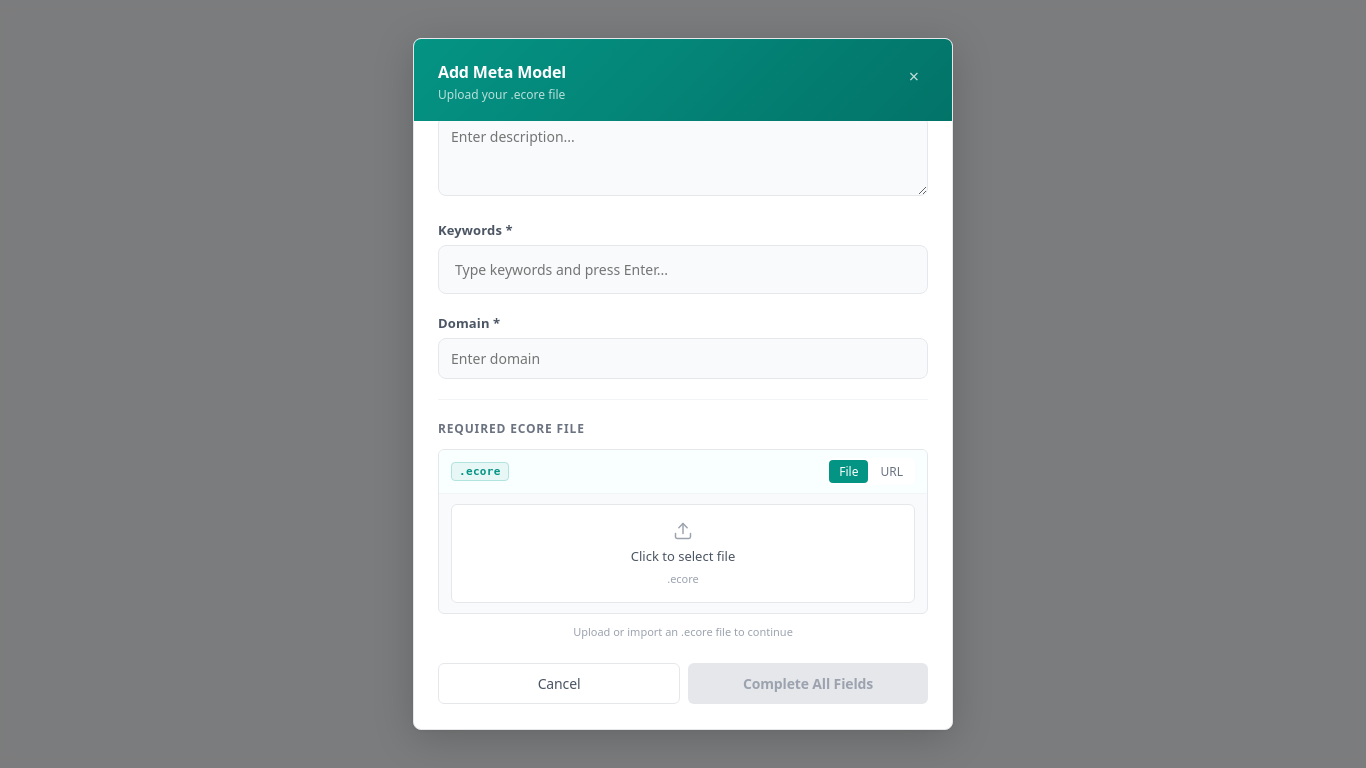
Test: CreateModelModal › URL import mode › shows ✓ Ready badge after a successful .ecore URL import
(page scrolled)
Click the button "URL" at (892, 472), box [870, 460, 913, 483]
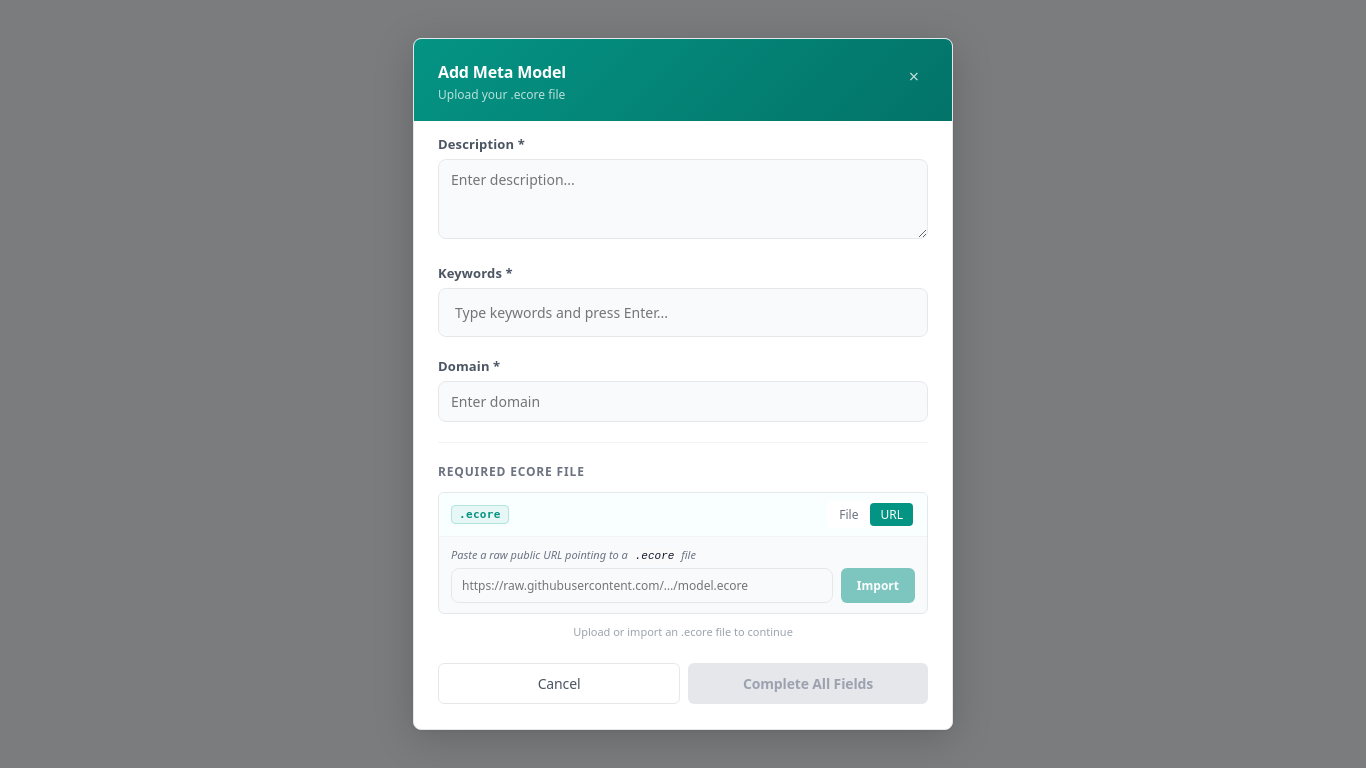
Type "https://raw.githubusercontent.com/org/repo/main/model.ecore" into the field with placeholder "https://raw.githubusercontent.com/…/model.ecore" at (642, 586), box [451, 568, 833, 603]
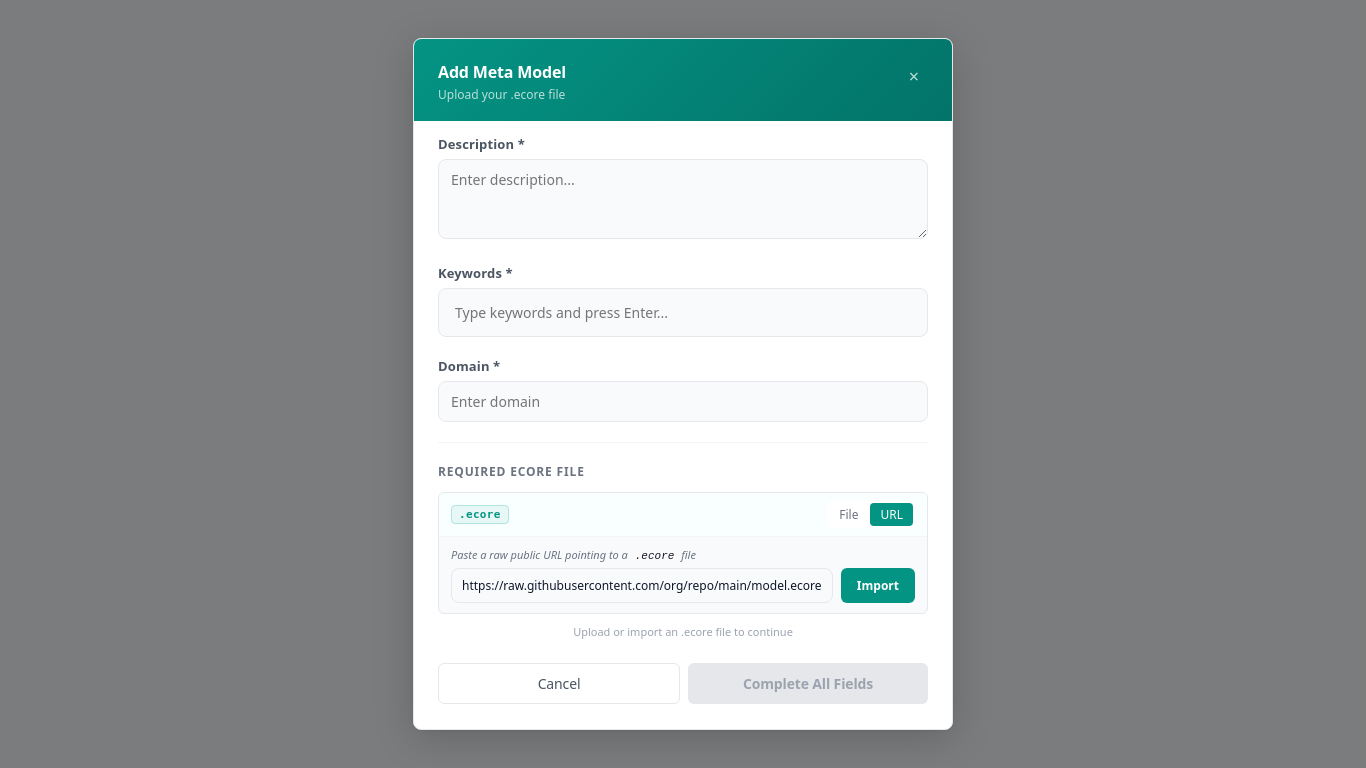
Click the button "Import" at (878, 586), box [841, 568, 915, 603]
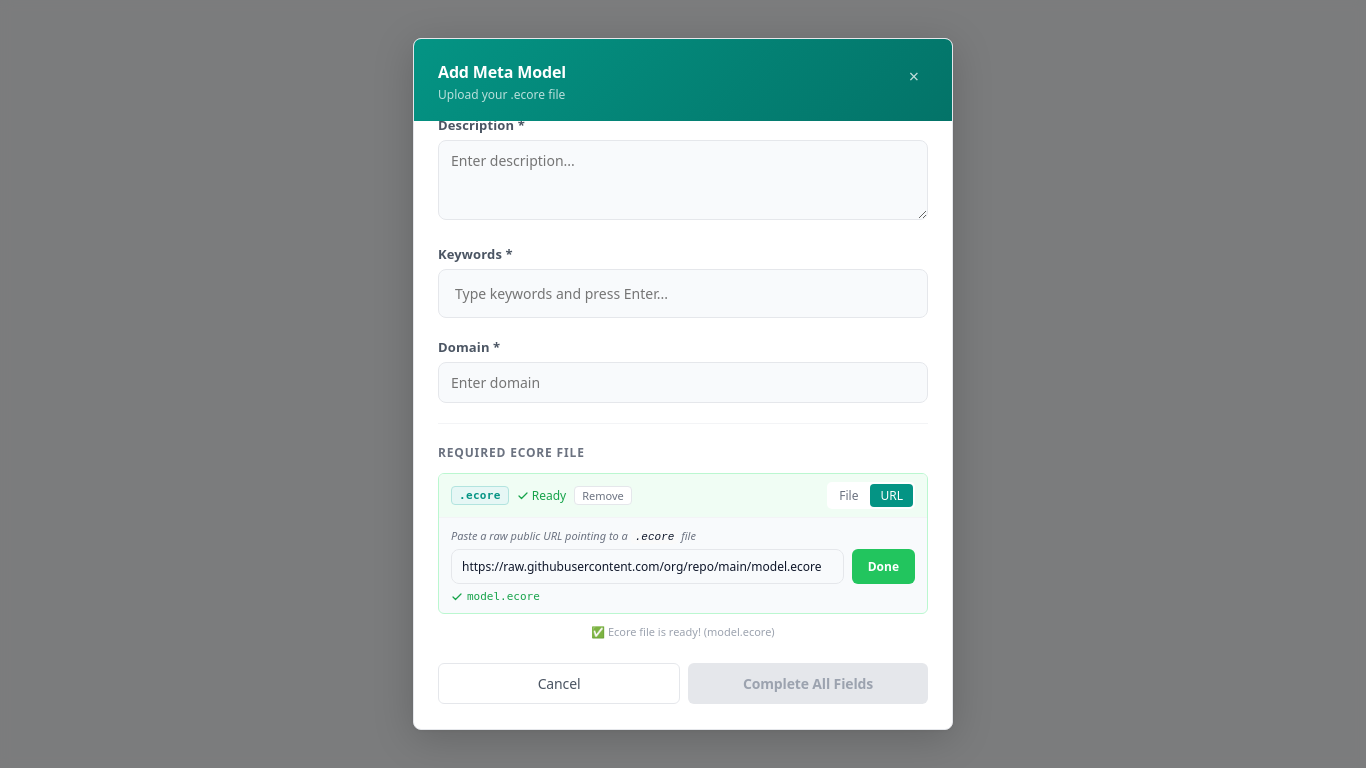
Result: the text "Ready" is shown at [517, 487, 566, 504]
